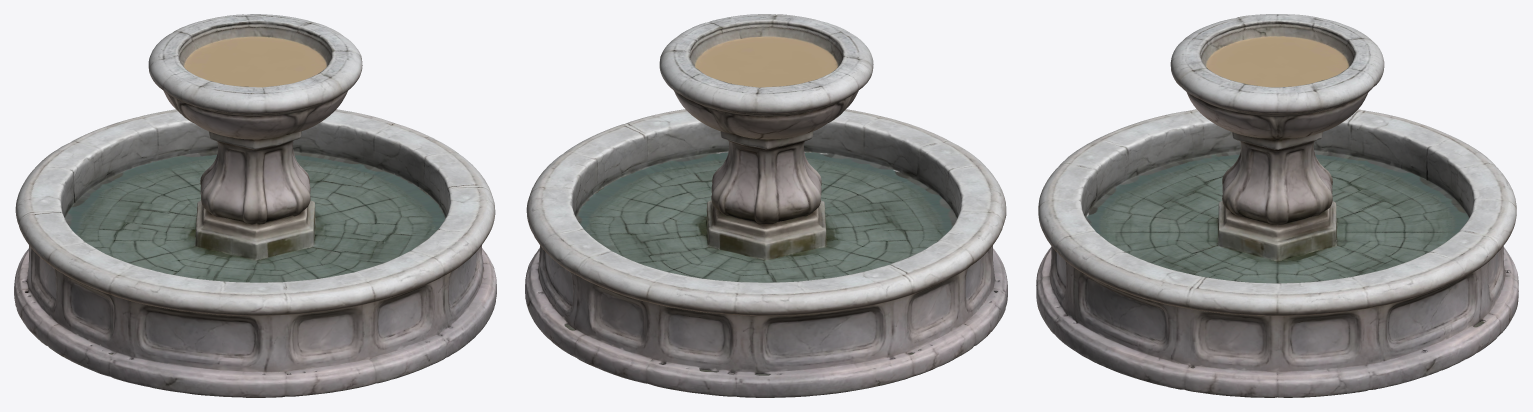
File: Fountain.glb
The picture shows the model from 3 angles, left to right: view 1: azimuth 30°, elevation 25°; view 2: azimuth 150°, elevation 25°; view 3: azimuth 270°, elevation 25°; orthographic projection.
Parts seen in each view (by area): view 1: world; view 2: world; view 3: world.
Boxes of the visible parts, <box> form: world: <box>14,14,496,397</box>; world: <box>525,14,1007,397</box>; world: <box>1036,14,1518,397</box>.
Size of the model in its own units: 1 by 0.5582 by 1.
Materials: 1 (1 with a texture image).
